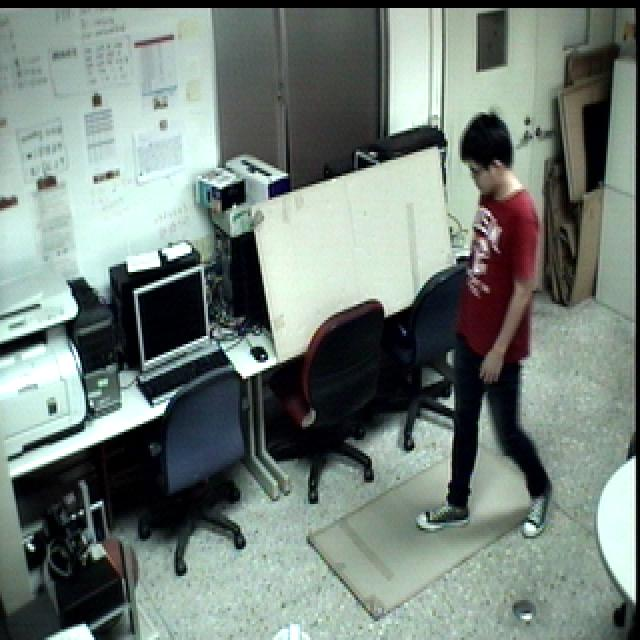stand: (408, 97, 563, 550)
